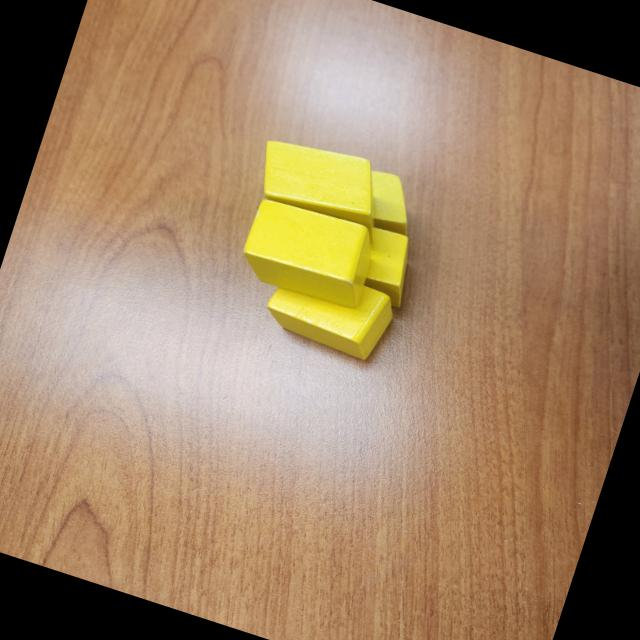yellow: (235, 193, 382, 314), (250, 129, 394, 234), (259, 259, 400, 365), (346, 222, 424, 310), (352, 166, 426, 237)
